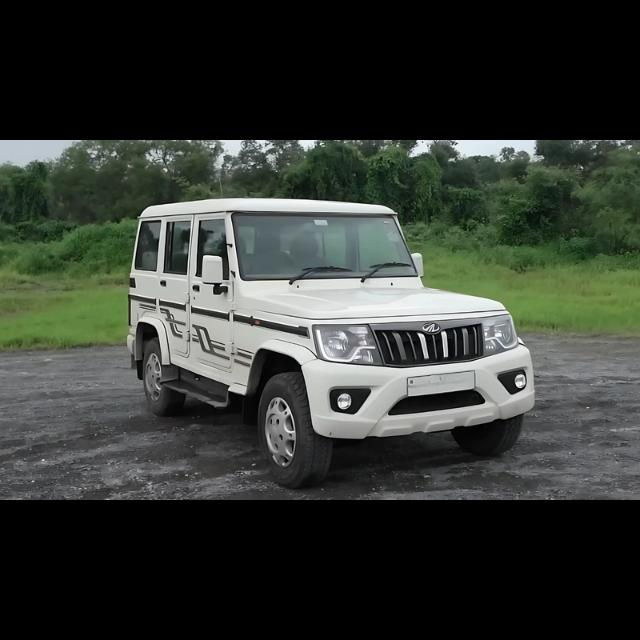number-plate: (405, 370, 475, 397)
vehicles: (123, 197, 530, 488)
